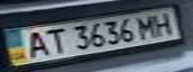3: (69, 21, 90, 51), (103, 18, 124, 46)
6: (87, 20, 109, 48), (118, 16, 139, 43)
A: (18, 28, 51, 58)
H: (148, 10, 178, 36)
M: (133, 12, 163, 39)
T: (39, 26, 69, 55)
